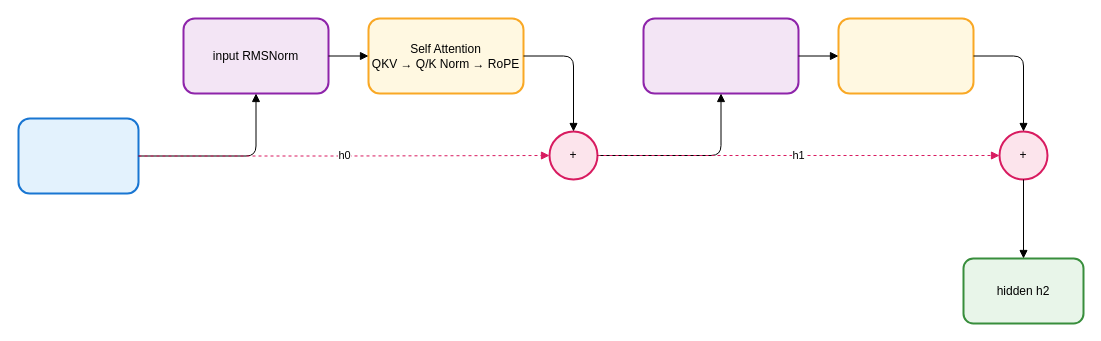
This 1101x341 diagram has some shape labels left out. Each missing label, with the centre of its shape:
"hidden h0" belongs at [78,155].
"MLP SiLU(gate) × up" belongs at [905,55].
"post RMSNorm" belongs at [720,55].
